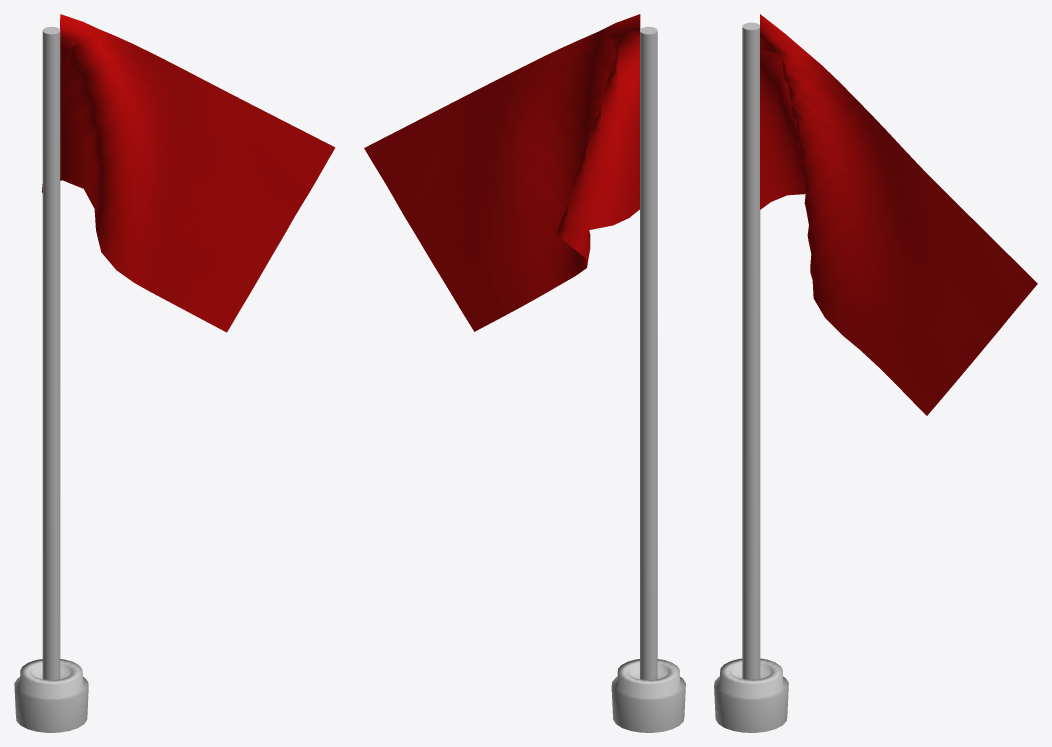
File: nykz-flag.dae
3 views of the same model, side by side, from view 1: azimuth 30°, elevation 25°; view 2: azimuth 150°, elevation 25°; view 3: azimuth 330°, elevation 25° (orthographic).
Parts seen in each view (by area): view 1: pPlane2, pCylinder30, pCylinder29; view 2: pPlane2, pCylinder30, pCylinder29; view 3: pPlane2, pCylinder30, pCylinder29.
Boxes of the visible parts, x1,y1,x2,y2 form: pPlane2: (41, 14, 335, 332); pCylinder30: (42, 26, 60, 679); pCylinder29: (14, 659, 88, 732); pPlane2: (364, 14, 640, 331); pCylinder30: (640, 26, 657, 679); pCylinder29: (611, 659, 685, 732); pPlane2: (760, 14, 1037, 415); pCylinder30: (742, 22, 760, 679); pCylinder29: (714, 658, 788, 732).
Size of the model in its own units: 0.1275 by 0.2706 by 0.0372.
